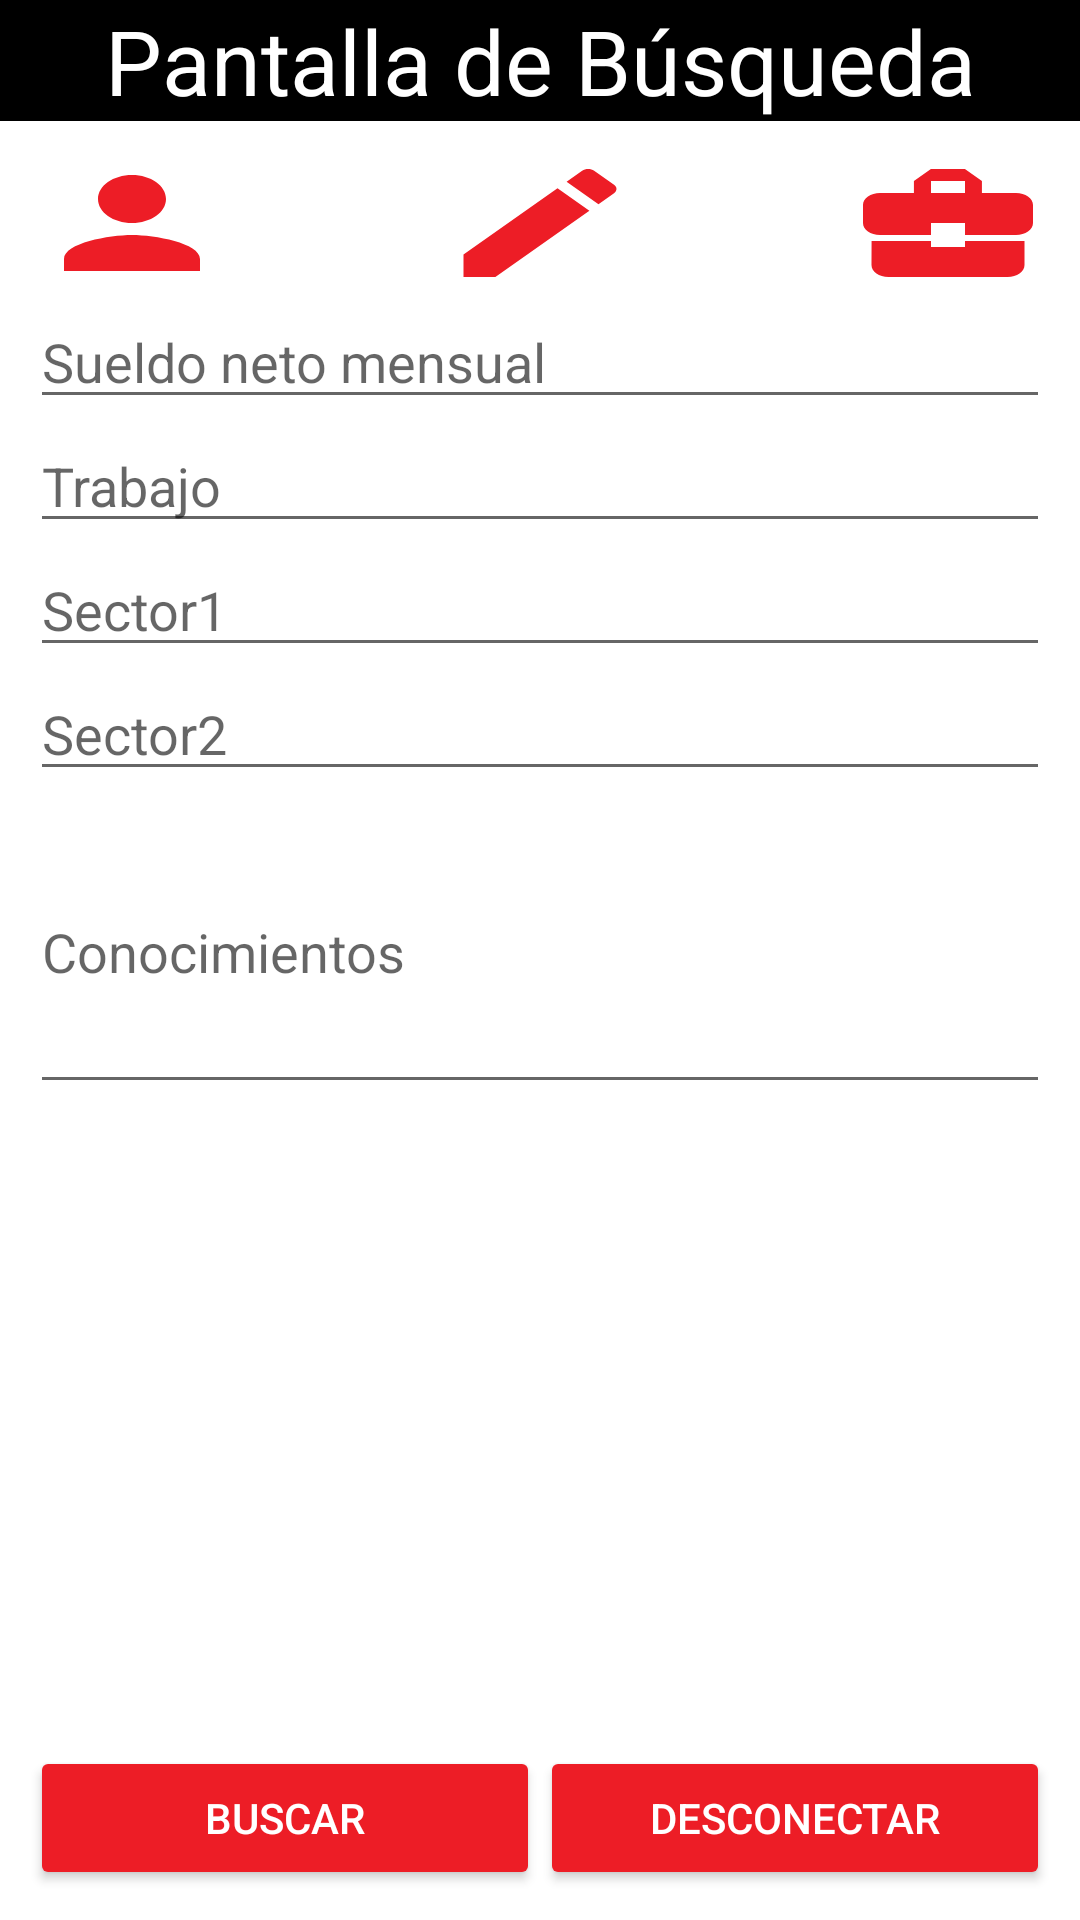

Where icons sit on this 1080×1920 app screen, as (x1, y1, x2, y2):
business center: (863, 169, 1033, 277)
edit: (463, 169, 617, 277)
person: (64, 175, 200, 271)
